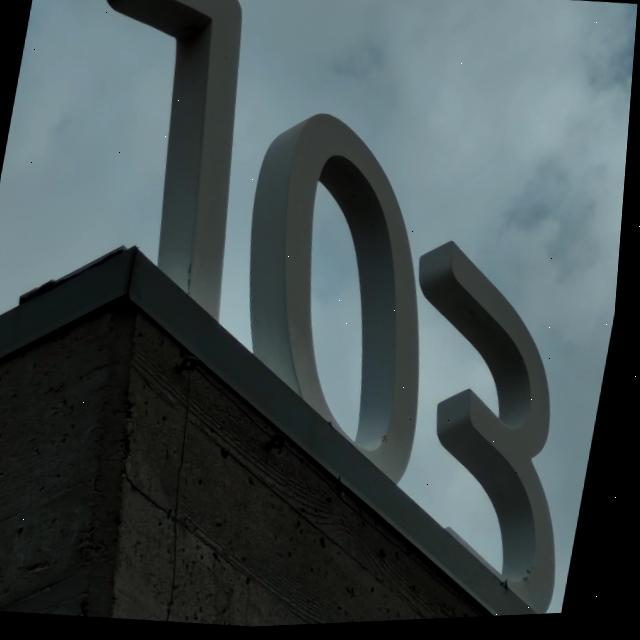character: (198, 95, 478, 505), (352, 226, 621, 622), (39, 0, 282, 330)
